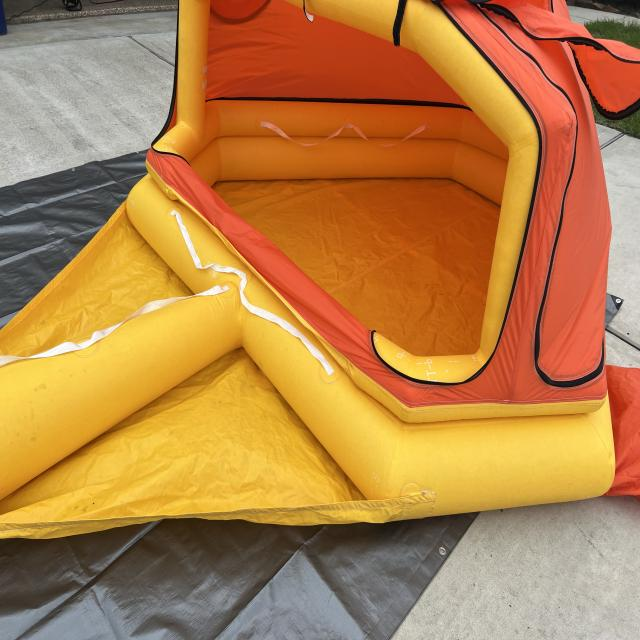Multi-person_life_raft: (0, 1, 640, 540)
